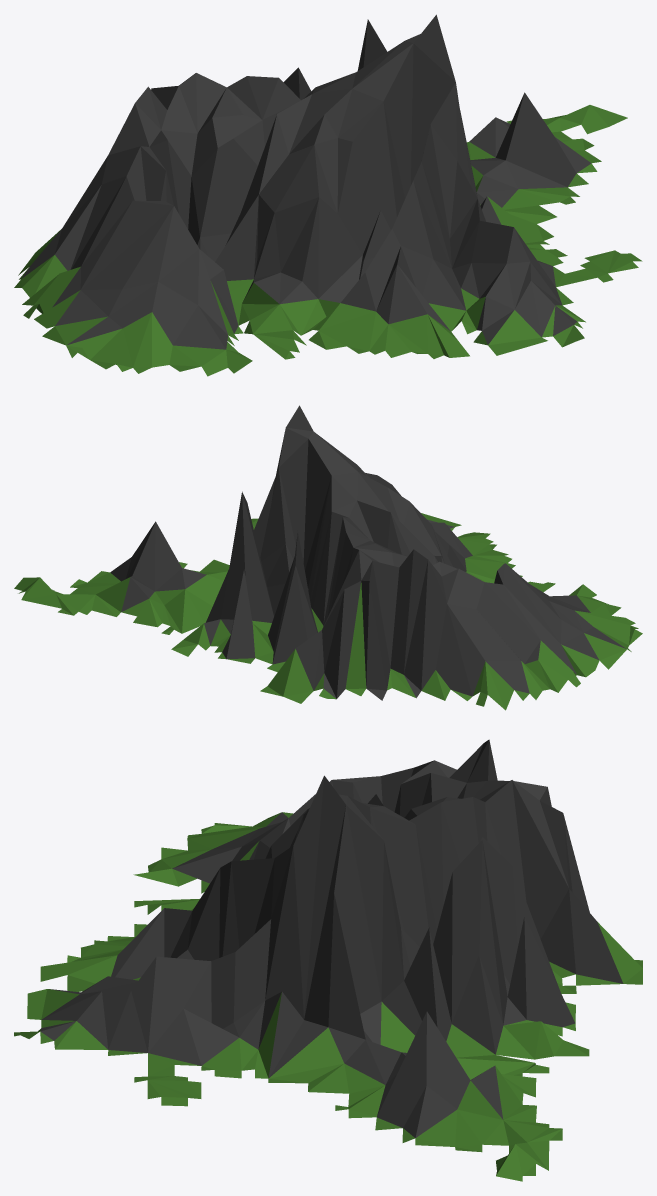
Rendered from Mountain5_low.fbx.
The picture shows the model from 3 angles, top to bottom: view 1: azimuth 30°, elevation 25°; view 2: azimuth 150°, elevation 25°; view 3: azimuth 270°, elevation 25°; orthographic projection. The views are drawn at different scales.
Parts seen in each view (by area): view 1: Plane.016; view 2: Plane.016; view 3: Plane.016.
Part boxes in pixels (x1,y1,x2,y2): Plane.016: (14,14,642,376); Plane.016: (14,405,642,710); Plane.016: (14,739,642,1181).
Size of the model in its own units: 1456 by 504 by 1068.
